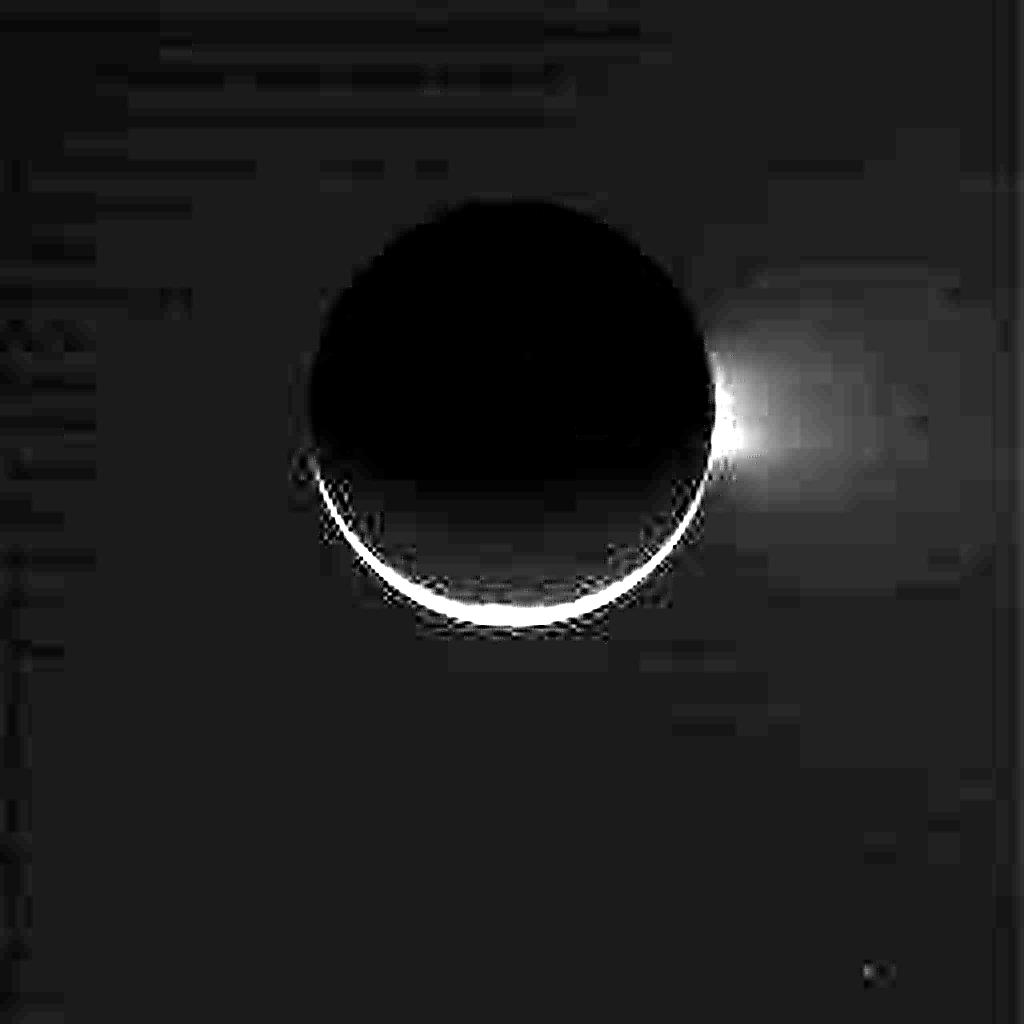plumes: (708, 351, 745, 466)
